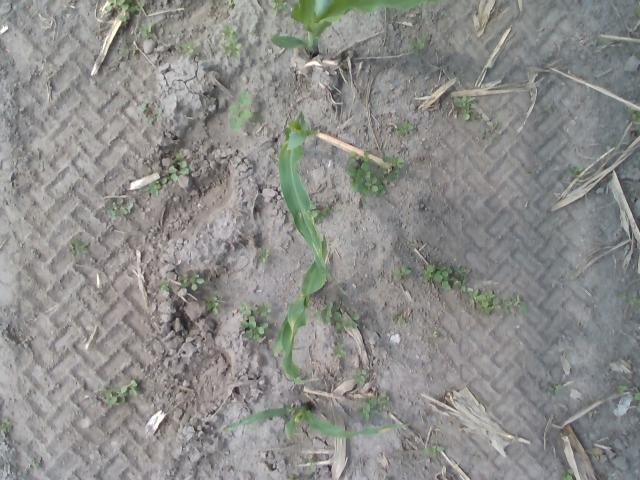Maize: (278, 112, 350, 298), (272, 0, 426, 58), (272, 235, 328, 378), (219, 402, 407, 439)
Weeds: (348, 151, 386, 196), (424, 264, 471, 293), (228, 91, 252, 130), (468, 288, 502, 314), (240, 316, 268, 340), (161, 162, 189, 184), (454, 96, 476, 121), (104, 0, 128, 22), (101, 386, 126, 405), (108, 198, 134, 216), (504, 294, 524, 316), (314, 302, 332, 323), (182, 274, 204, 291), (359, 402, 378, 421), (222, 38, 240, 58), (617, 385, 640, 400), (68, 238, 87, 255), (383, 154, 404, 168), (412, 35, 425, 56), (382, 167, 398, 184), (121, 379, 137, 396), (140, 22, 156, 38), (239, 301, 255, 317), (333, 343, 347, 361), (148, 108, 162, 125), (379, 392, 392, 410), (424, 446, 445, 457), (182, 41, 198, 55), (397, 120, 413, 134), (342, 314, 358, 328), (121, 44, 138, 57), (274, 0, 287, 16), (254, 303, 270, 316), (207, 297, 219, 314), (220, 24, 234, 38), (144, 184, 160, 196), (304, 211, 320, 223), (395, 268, 411, 280), (353, 370, 367, 383), (560, 468, 574, 480), (548, 382, 564, 392), (257, 249, 269, 262), (158, 280, 170, 292), (334, 302, 342, 320), (480, 127, 492, 139), (392, 316, 406, 326), (320, 207, 331, 219), (30, 458, 42, 467), (2, 422, 12, 432), (570, 165, 580, 175), (307, 458, 314, 472), (129, 4, 142, 11), (140, 104, 148, 114), (633, 111, 640, 121), (226, 0, 234, 8), (545, 104, 552, 113), (177, 153, 184, 160), (613, 139, 620, 146), (620, 293, 627, 298), (433, 332, 438, 338), (630, 299, 636, 304)
